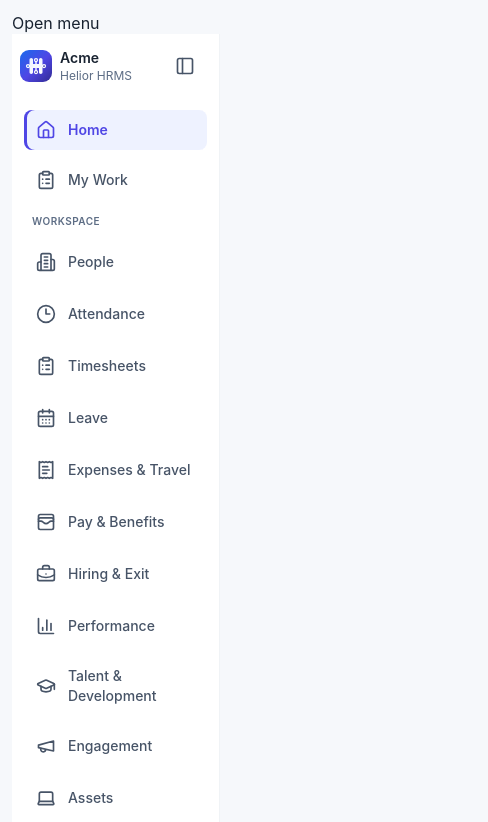
Scenario: Sidebar mobile focus and interaction › exposes expandable HRMS sections with their current state
Hover over the link "People" at (75,262), box [36,252,114,272]
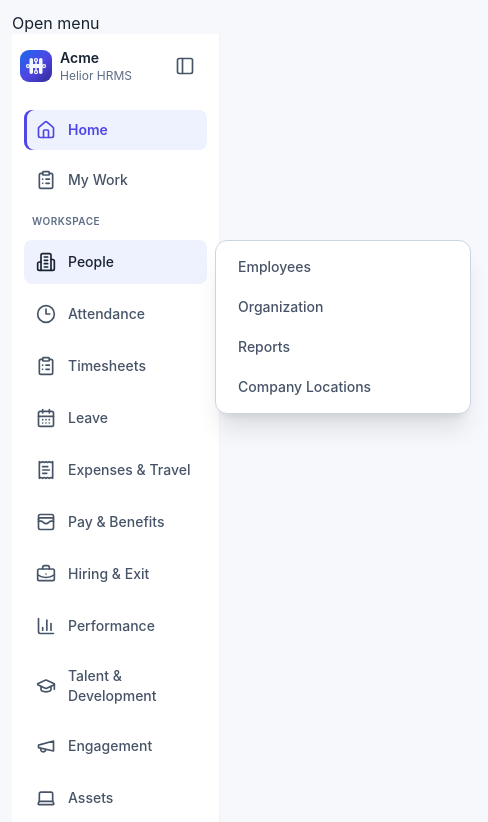
Check: the link "People" is expanded, box [24,240,207,284]
Check: the link "Employees" is shown, box [238,258,311,275]
